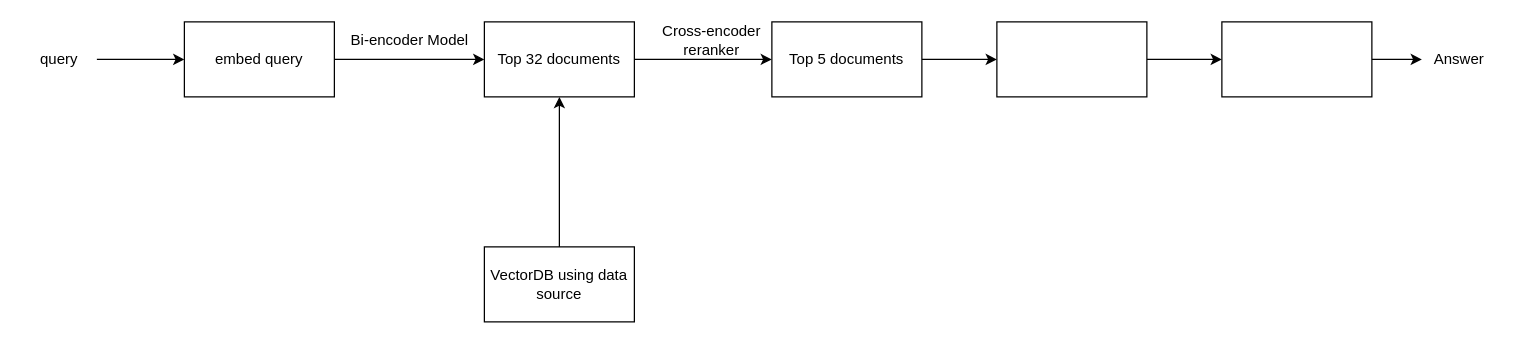
This 1518x344 diagram has some shape labels left out. The shapes that lost their labels are listed below. From the top down, each one's box as (x1, y1, x2, y2) in pixels, then its label:
(996, 21, 1147, 97): Most relevant docs
(1221, 21, 1372, 97): falcon 40 b
